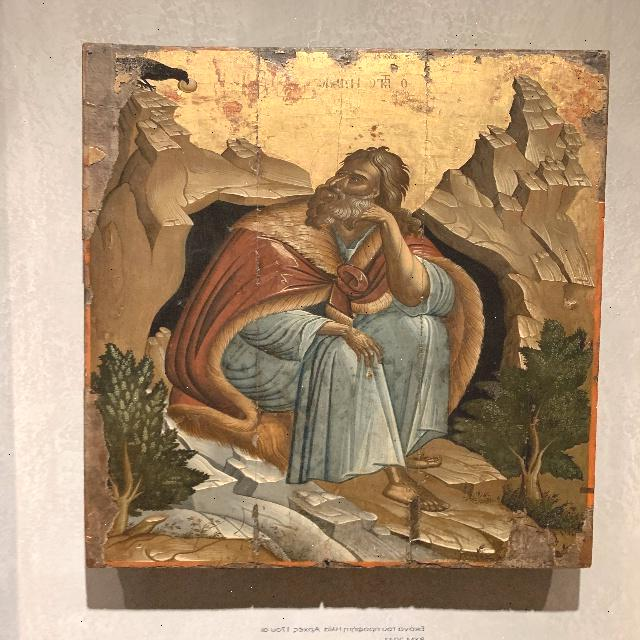aura: (292, 122, 441, 211)
prophet_elijah: (188, 110, 476, 510)
